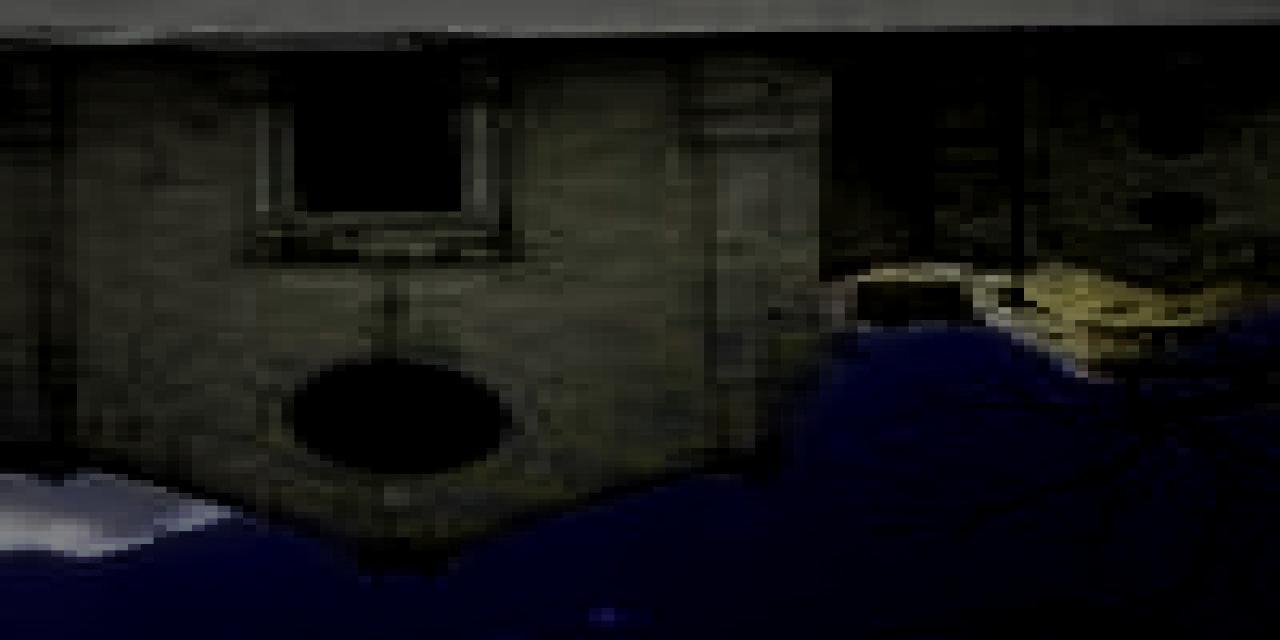Agia Aikaterini: (1, 48, 1273, 587)
